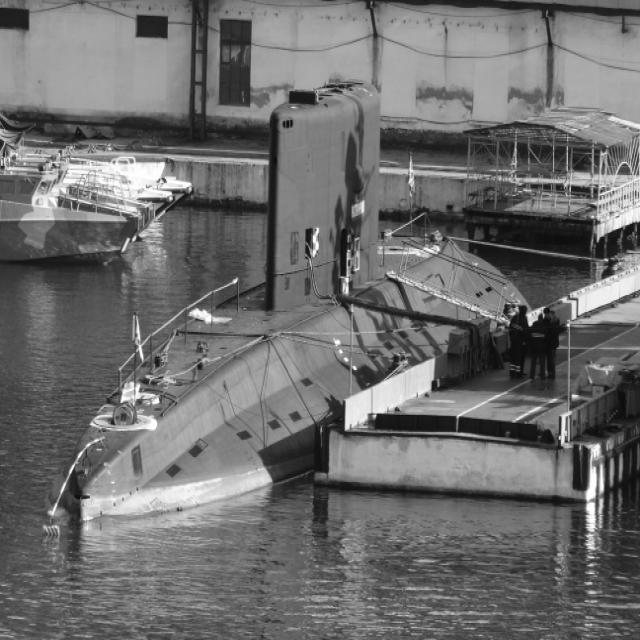submarine: (47, 81, 532, 540)
